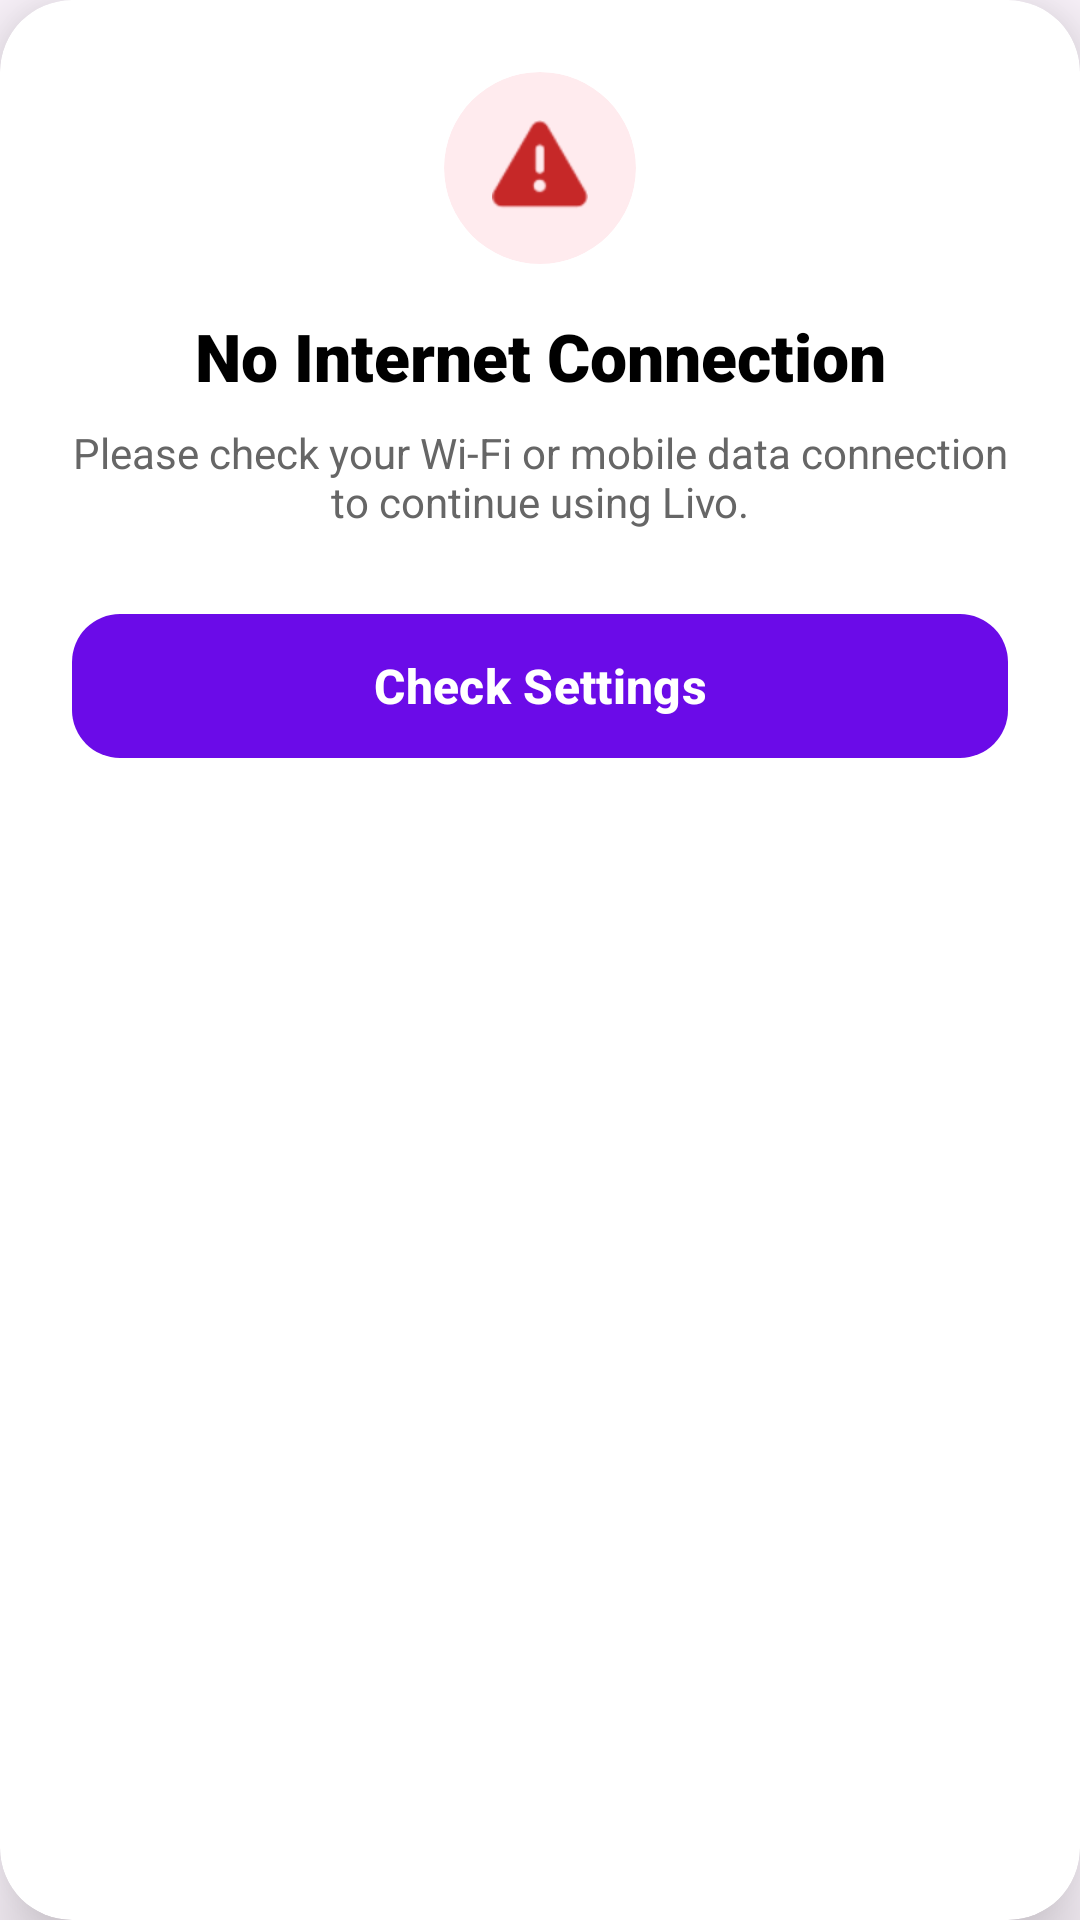

Named icons in this screenshot (1080px×1920px) and their centers, (x,y):
alert: (540,164)
